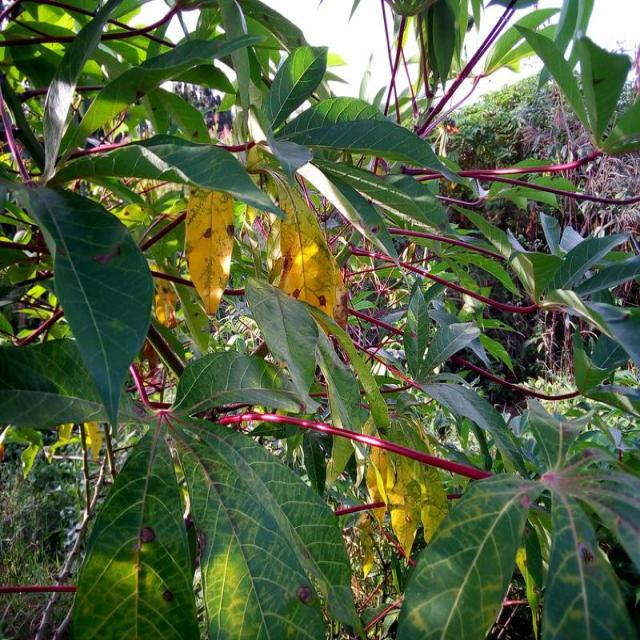cassava leaf: (172, 413, 362, 638), (8, 177, 155, 431), (70, 421, 200, 638), (395, 470, 534, 638)
